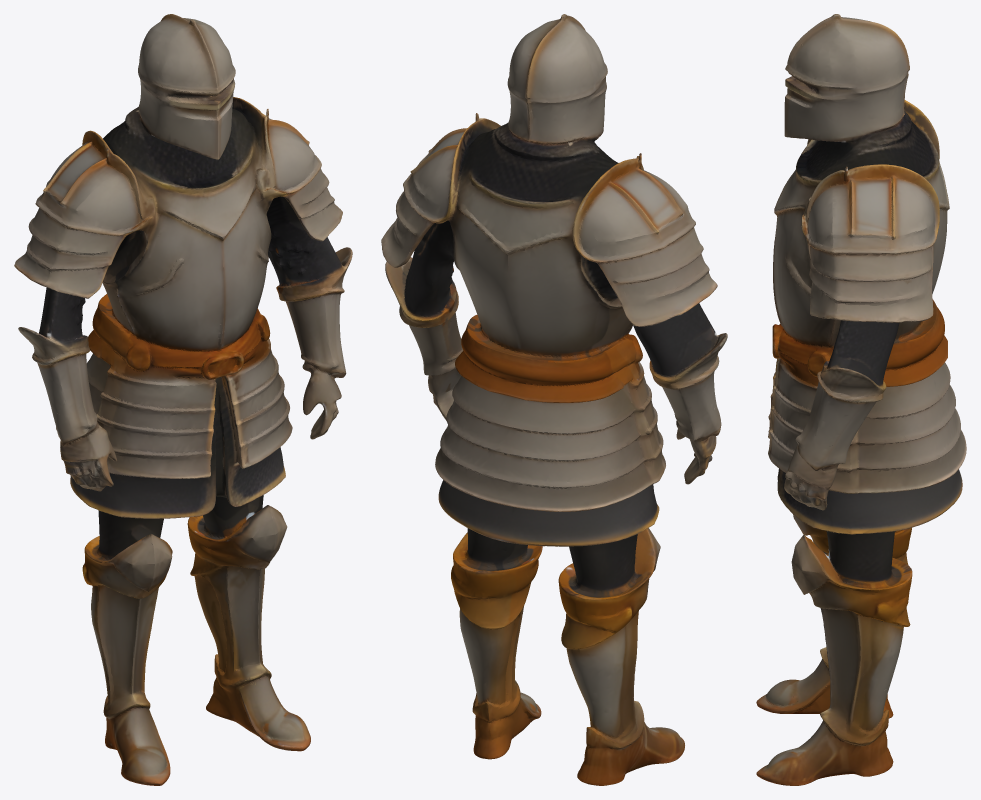
The model's file is base_basic_pbr.fbx.
3 renders of one model, left to right at view 1: azimuth 30°, elevation 25°; view 2: azimuth 150°, elevation 25°; view 3: azimuth 270°, elevation 25°, orthographic. The views are drawn at different scales.
Visible parts, largest first — view 1: model; view 2: model; view 3: model.
Part boxes in pixels (bbox=[...]): model: bbox=[14, 14, 352, 785]; model: bbox=[381, 14, 727, 785]; model: bbox=[756, 14, 966, 785].
Bounding box in the file's own units: 90.57 × 190 × 49.74.
1 material, 1 textured.
